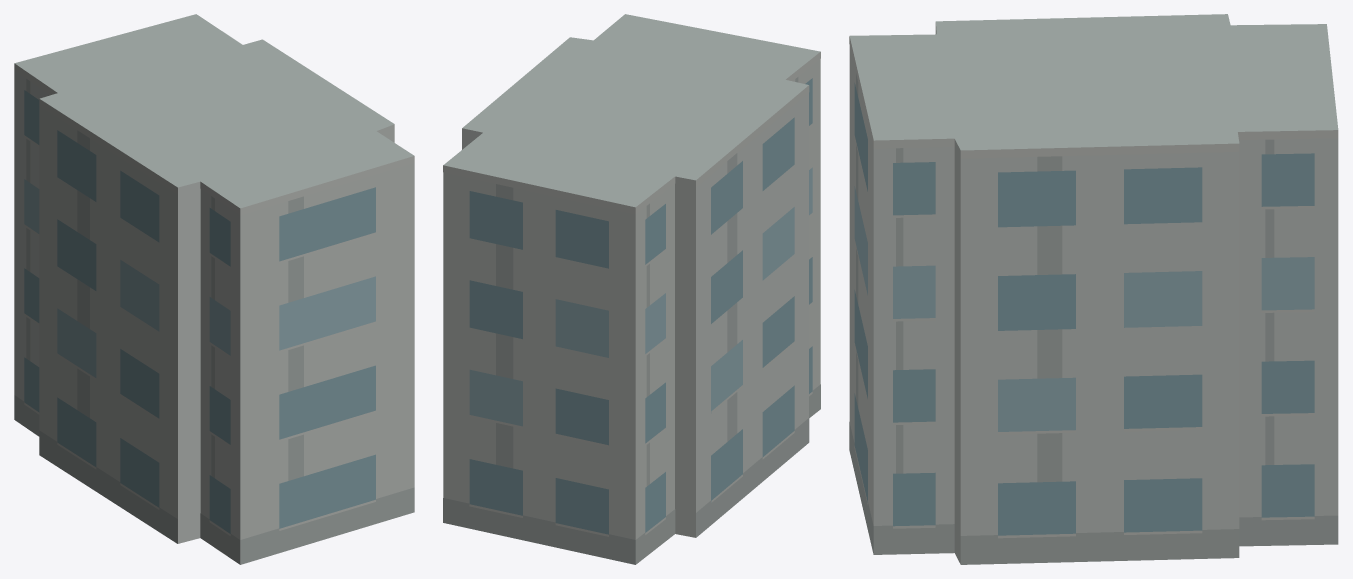
Rendered from survey-upis-32733341.glb.
3 renders of one model, left to right at view 1: azimuth 30°, elevation 25°; view 2: azimuth 150°, elevation 25°; view 3: azimuth 270°, elevation 25°, orthographic. The views are drawn at different scales.
Visible parts, largest first — view 1: survey-upis-32733341.tmp; view 2: survey-upis-32733341.tmp; view 3: survey-upis-32733341.tmp.
Part boxes in pixels (x1,y1,x2,y2): survey-upis-32733341.tmp: [14, 14, 414, 564]; survey-upis-32733341.tmp: [443, 14, 820, 564]; survey-upis-32733341.tmp: [849, 14, 1338, 564].
Bounding box in the file's own units: 8.62 × 12.2 × 13.05.
